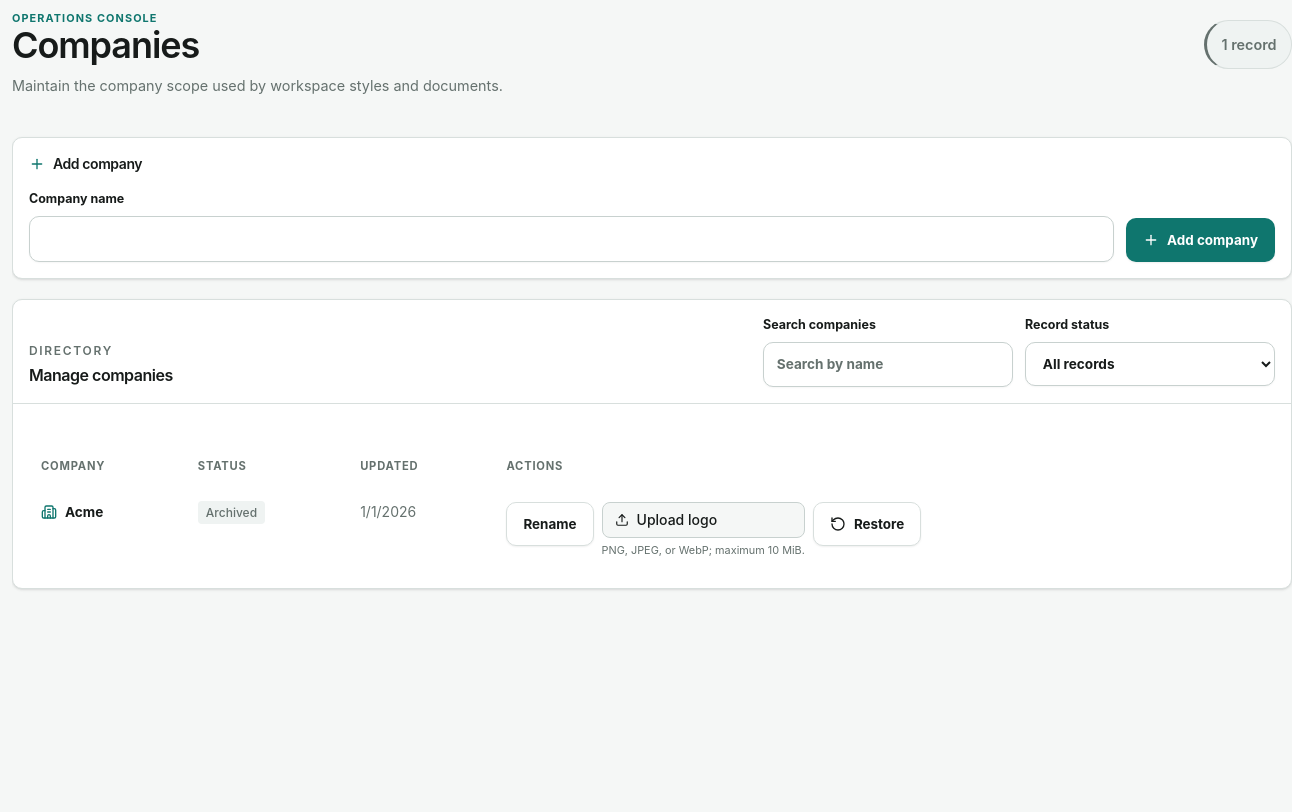
it: CompaniesDashboard › restores an archived company and reloads shared state
This screenshot has width=1292, height=812.
Step 1. Click the button "Restore" → point(867, 524), box top-left (813, 502), bottom-right (921, 546)
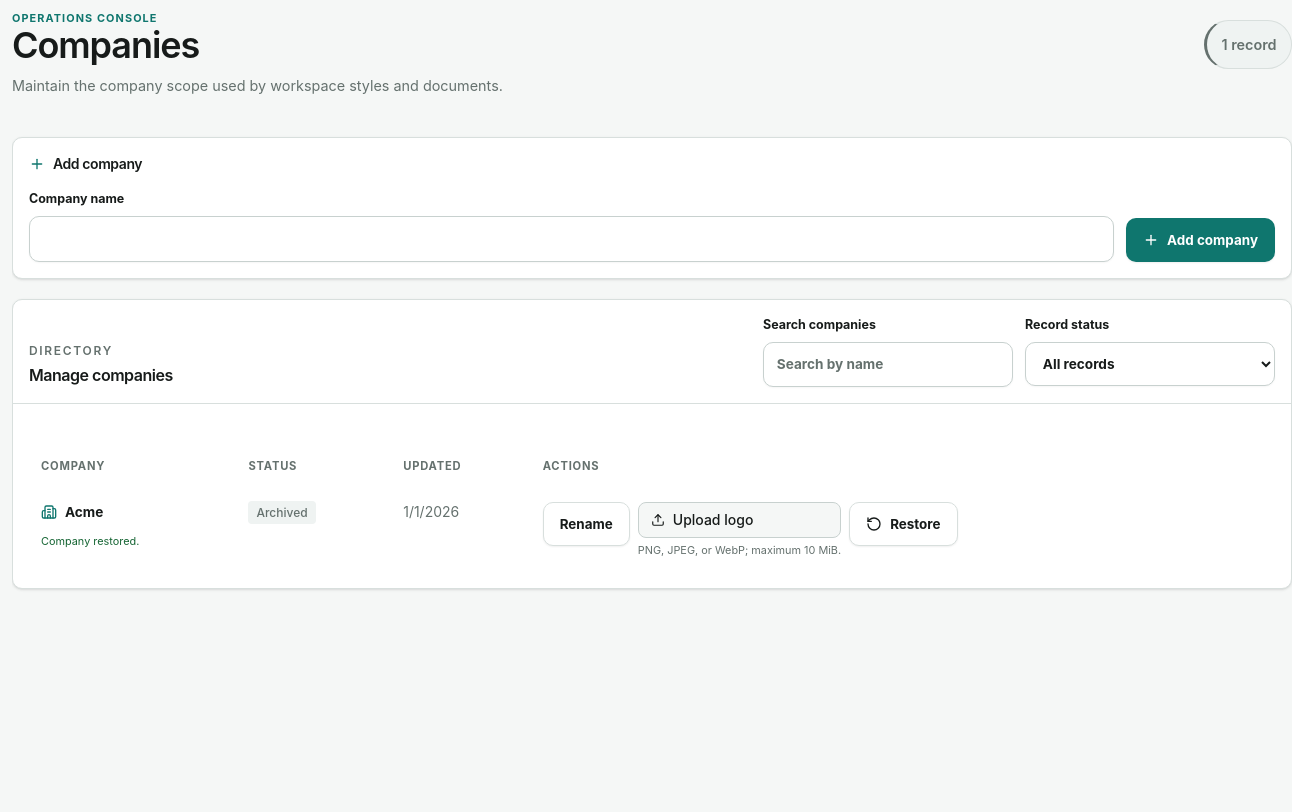
Check: the text "Company restored." is shown, box top-left (41, 534), bottom-right (139, 548)
